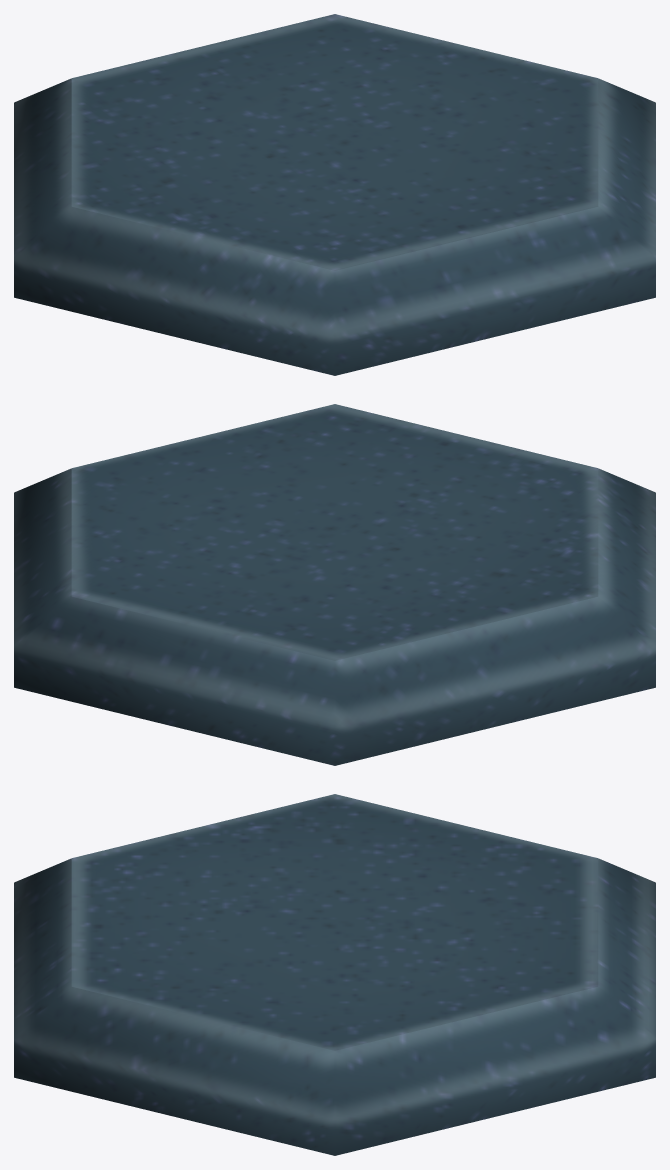
The model's file is BG1-7Boss.fbx.
3 views of the same model, one above another, from view 1: azimuth 30°, elevation 25°; view 2: azimuth 150°, elevation 25°; view 3: azimuth 270°, elevation 25° (orthographic).
Visible parts, largest first — view 1: Cylinder032; view 2: Cylinder032; view 3: Cylinder032.
Part boxes in pixels (x1,y1,x2,y2): Cylinder032: (14, 14, 655, 375); Cylinder032: (14, 404, 655, 765); Cylinder032: (14, 794, 655, 1155).
Size of the model in its own units: 130 by 14.92 by 113.
Materials: 1 (1 with a texture image).
